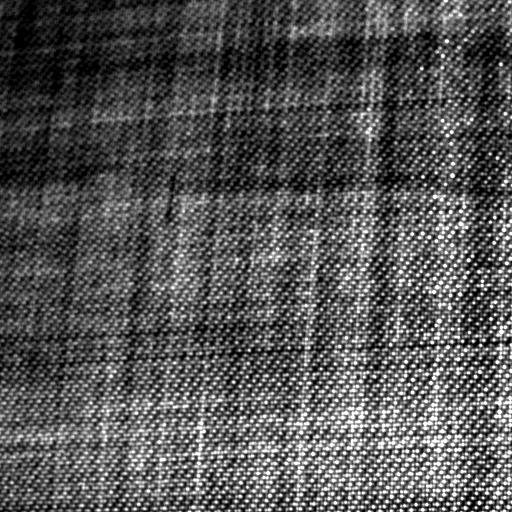fabric_perfect: (0, 0, 510, 508)
